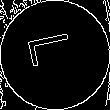L_E: (27, 34, 83, 76)
